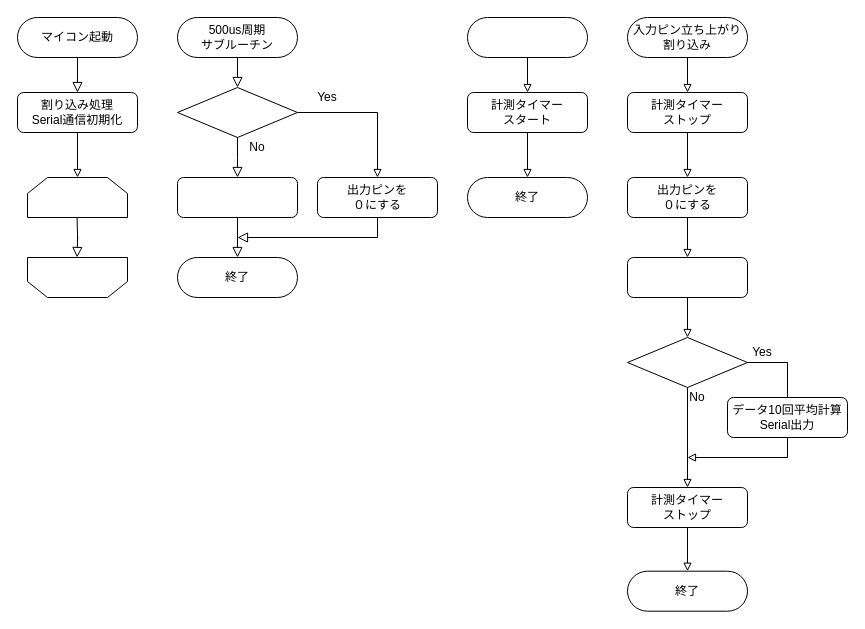
The diagram is 865 pixels wide and 629 high, and some of its shapes have lost their labels. The centre of each missing label's shape, as x and y in pixels:
"10の倍数 周期か？" goes at [687,362].
"while(1)" goes at [77,197].
"出力ピン 状態は1か？" goes at [237,112].
"出力ピンを １にする" goes at [237,197].
"出力確認ピン 立ち上がり割り込み" goes at [527,37].
"時定数計測 データ記録" goes at [687,277].
